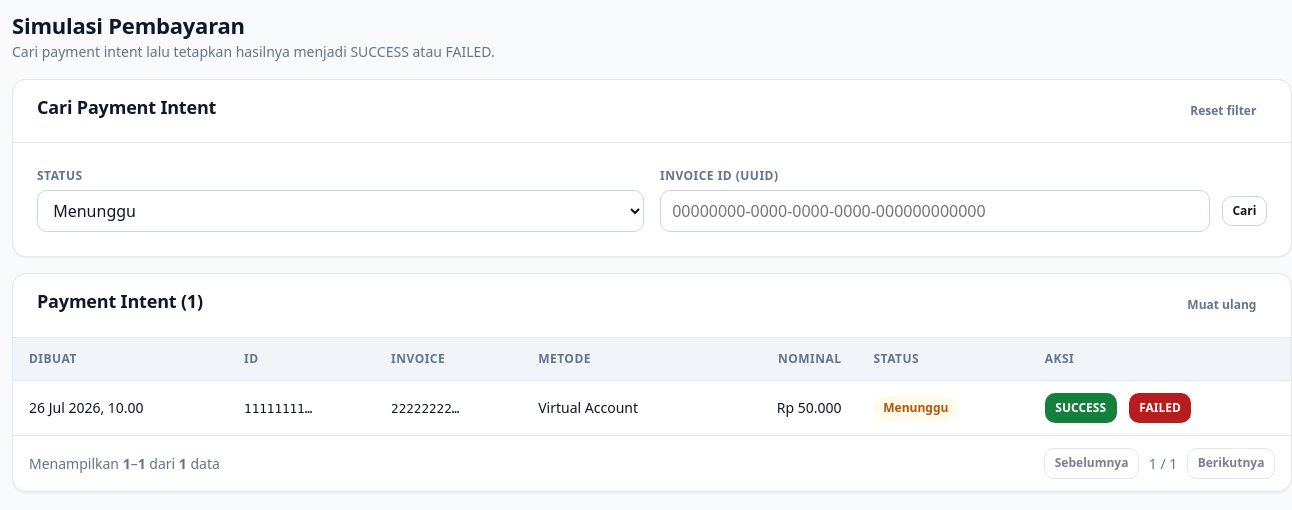
Test case: settling a payment › sends nothing when the confirmation is cancelled
Click the button "SUCCESS" at (1081, 408), box [1045,393,1117,423]
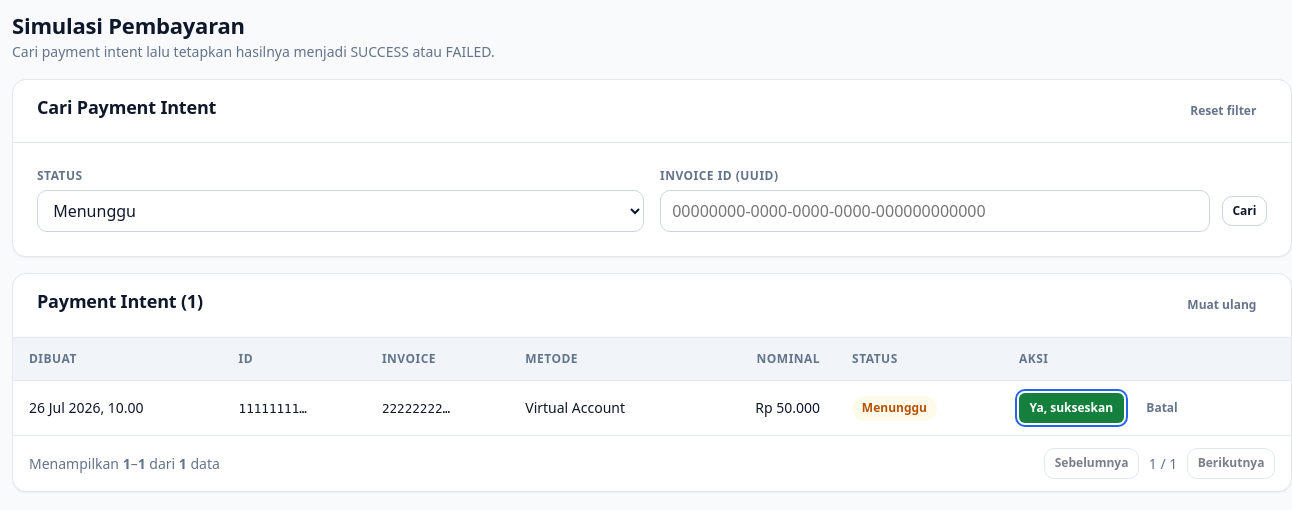
Click the button "Batal" at (1162, 408), box [1136,393,1188,423]
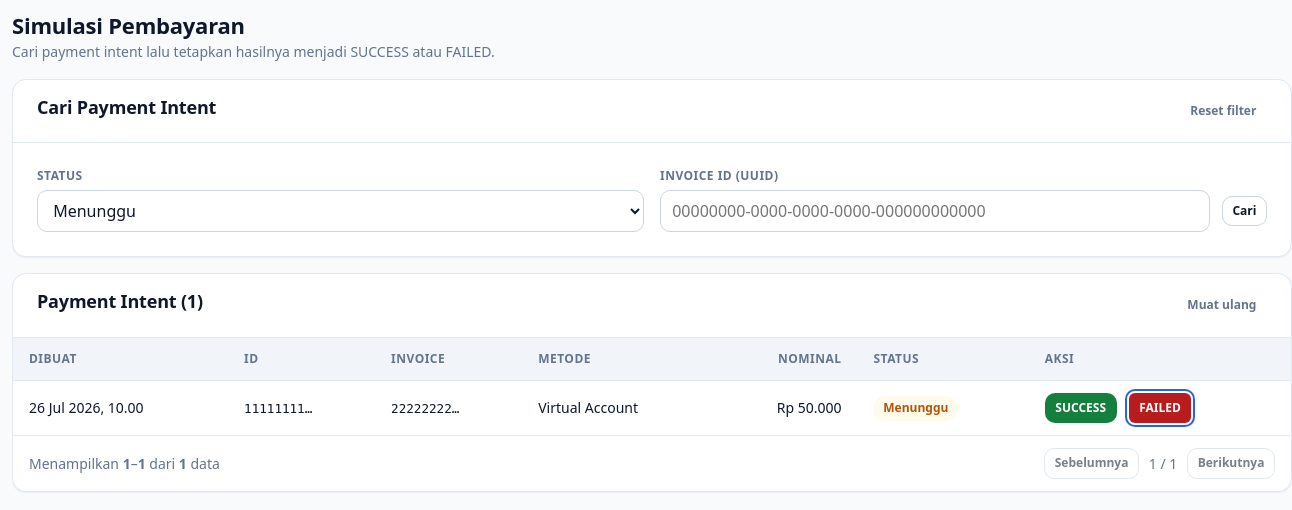
Now the button "SUCCESS" is shown, box [1045,393,1117,423]
